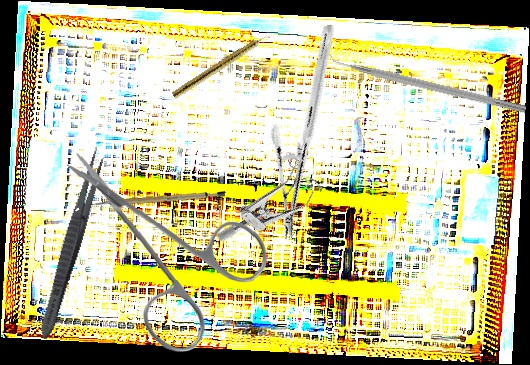Chopper: (323, 44, 530, 114)
Dressing Forceps: (34, 144, 110, 343)
Handpiece: (171, 31, 272, 101)
Iris Scissors: (67, 148, 269, 355)
Needle Holder: (224, 23, 393, 241)
Scalpel Handle: (94, 180, 226, 215)
Speculum: (214, 145, 332, 270)
